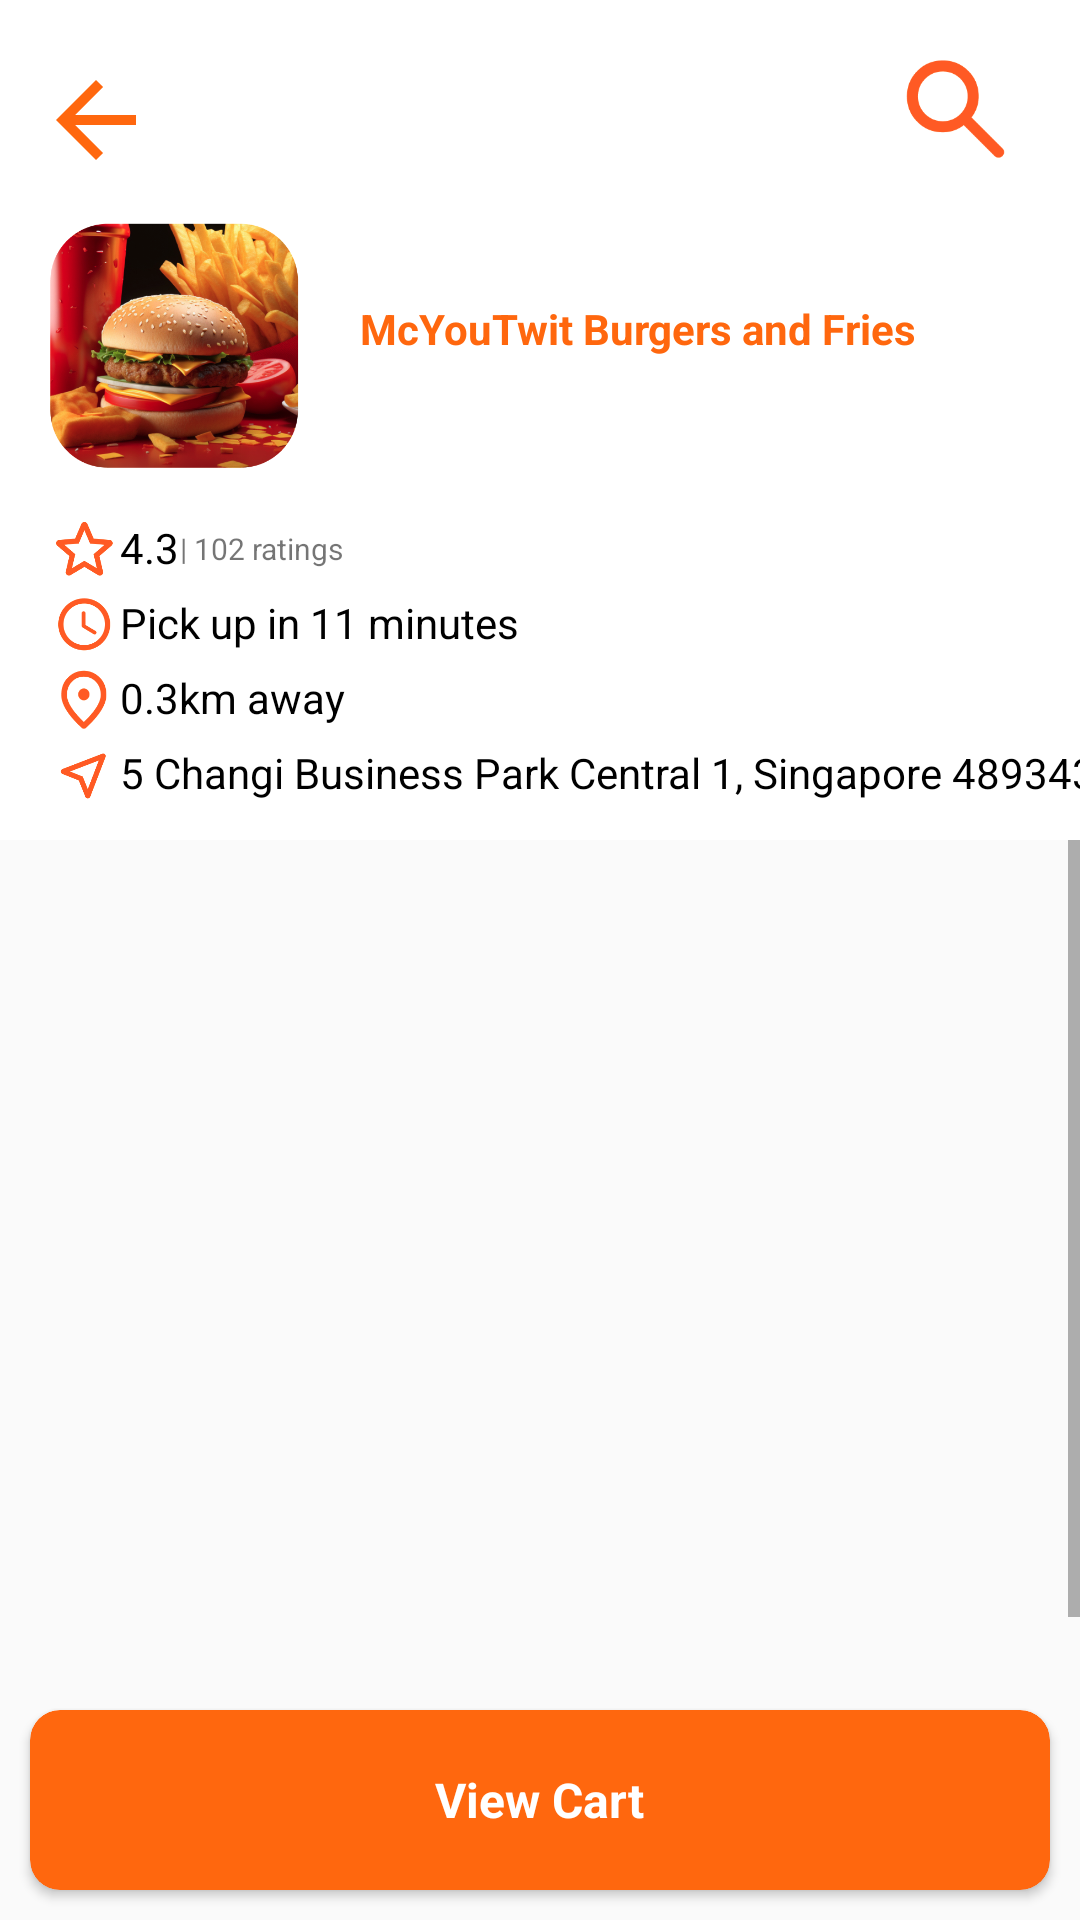

Icon bounding boxes for this 1080 x 1920 phone screenshot, format (x1, y1, x2, y2):
BACK: (56, 80, 136, 160)
duration: (58, 598, 111, 651)
search: (906, 60, 1005, 158)
store burger: (50, 223, 298, 468)
